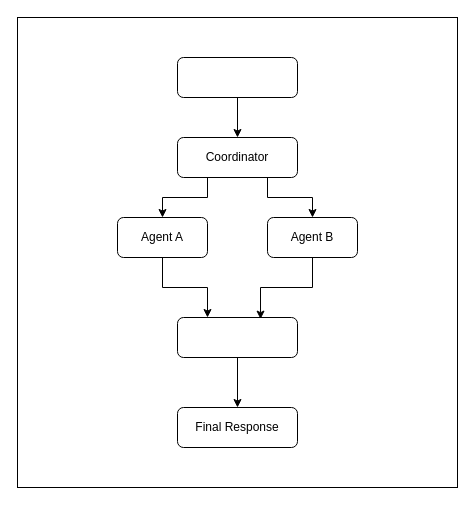
The diagram is 475 pixels wide and 505 high, and some of its shapes have lost their labels. The shapes that lost their labels are listed below. From the top down, each one's box as (x1, y1, x2, y2) in pixels, then its label:
(176, 56, 298, 98): User Request
(176, 316, 298, 358): Aggregation
